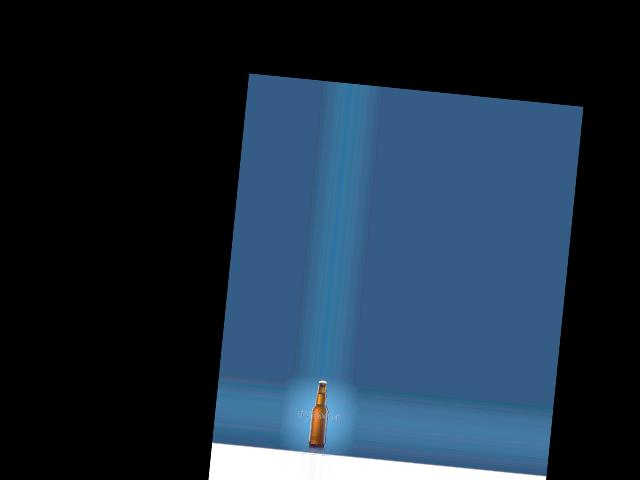beer: (308, 379, 331, 446)
